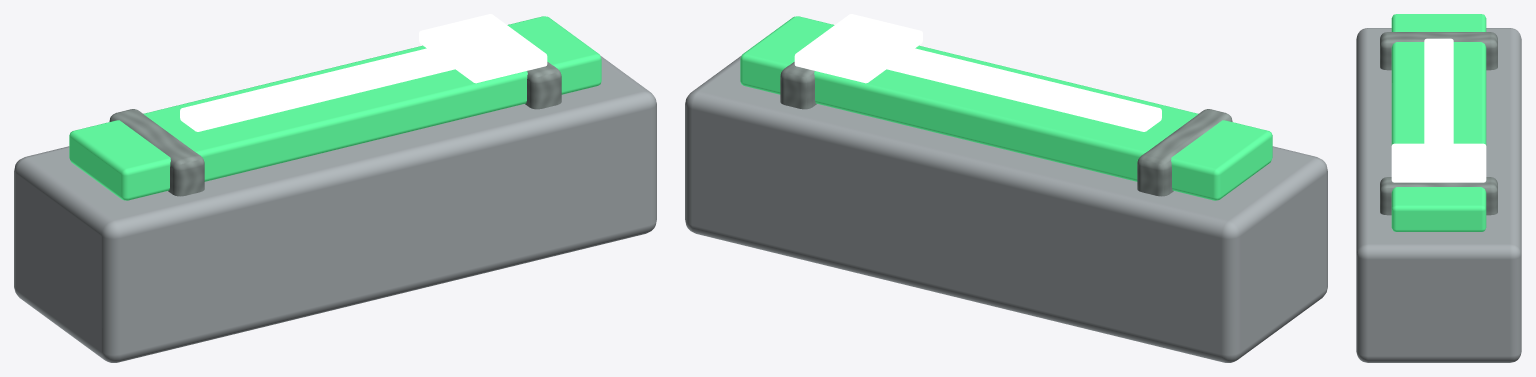
File: liminal-spaces-kit-exit-sign-6c2e0da2__25283.glb
3 views of the same model, side by side, from view 1: azimuth 30°, elevation 25°; view 2: azimuth 150°, elevation 25°; view 3: azimuth 270°, elevation 25° (orthographic). The views are drawn at different scales.
Visible parts, largest first — view 1: exit-sign; view 2: exit-sign; view 3: exit-sign.
Boxes of the visible parts, box(x1,y1,x2,y2) form: exit-sign: box(14, 14, 656, 362); exit-sign: box(685, 14, 1327, 362); exit-sign: box(1356, 14, 1521, 362).
Size of the model in its own units: 0.45 by 0.146 by 0.14.
Materials: 4 (1 with a texture image).
